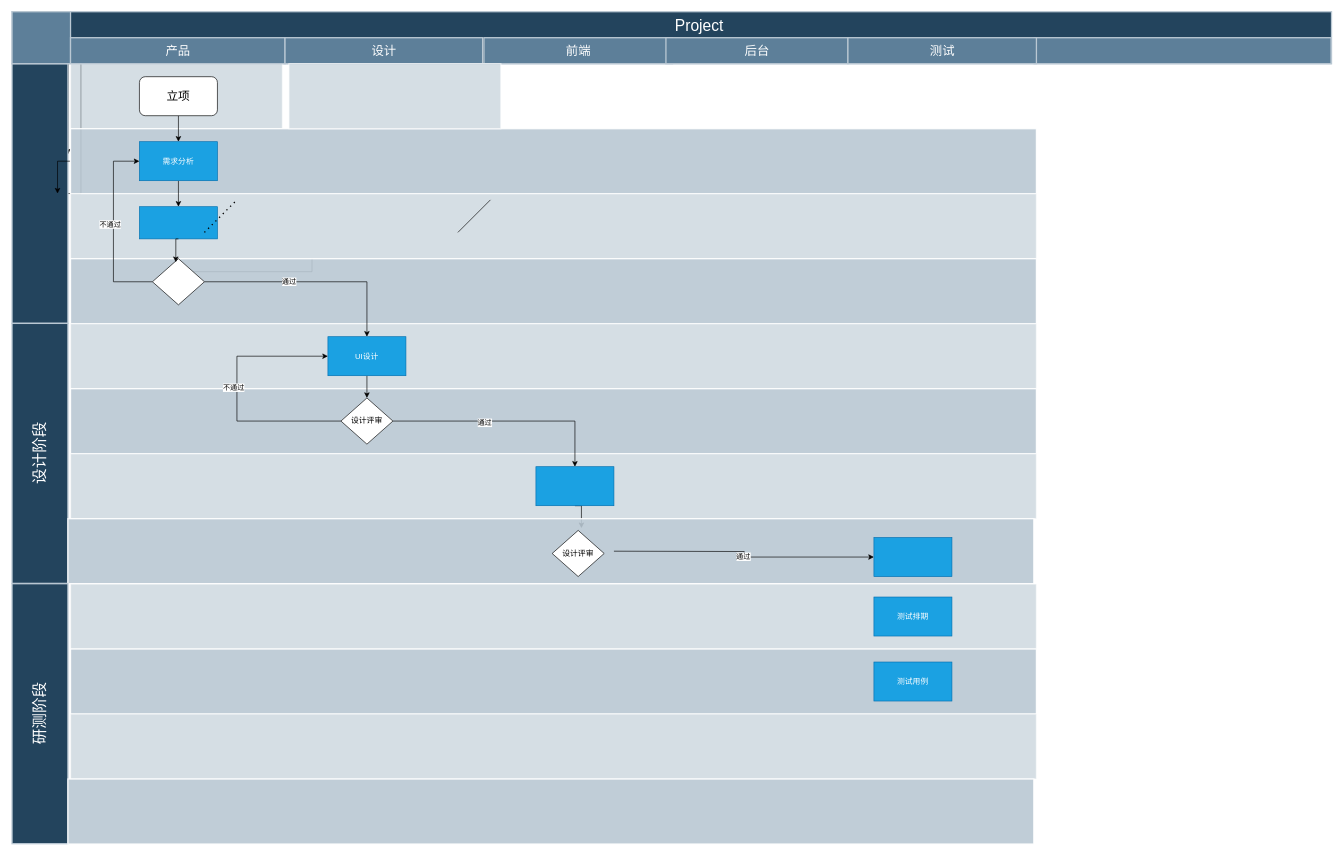
The diagram is 1343 pixels wide and 856 high, and some of its shapes have lost their labels. The box of each missing label's shape, as (x1, y1, x2, y2) in pixels:
PRD及原型: (139, 206, 217, 239)
v 1.0: (11, 11, 71, 64)
前端设计: (535, 466, 614, 506)
测试分析: (873, 537, 952, 577)
运维: (1033, 37, 1331, 64)
需求评审: (152, 258, 204, 305)
需求阶段: (11, 63, 68, 324)
